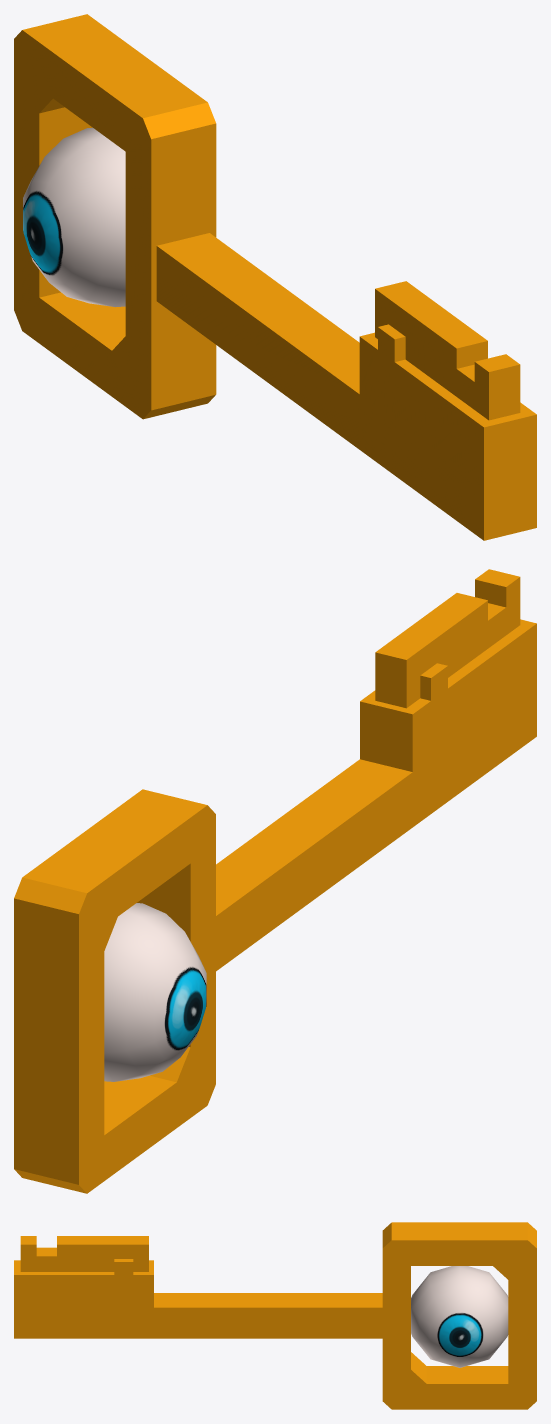
File: Key_right.fbx
3 renders of one model, top to bottom at view 1: azimuth 30°, elevation 25°; view 2: azimuth 150°, elevation 25°; view 3: azimuth 270°, elevation 25°, orthographic. The views are drawn at different scales.
Visible parts, largest first — view 1: pCube5; view 2: pCube5; view 3: pCube5.
Boxes of the visible parts, box(x1,y1,x2,y2) form: pCube5: box(14, 14, 536, 540); pCube5: box(14, 569, 536, 1193); pCube5: box(14, 1222, 536, 1409).
Size of the model in its own units: 0.3558 by 0.6324 by 1.77.
